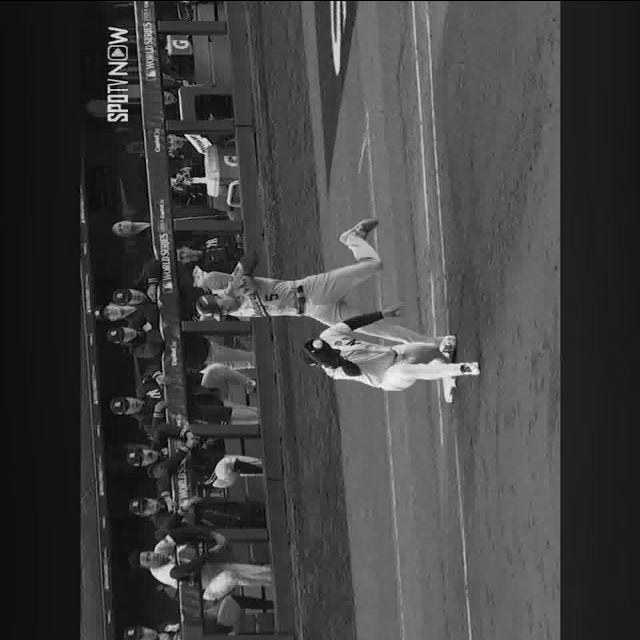base: (442, 376, 457, 402)
baseball: (312, 338, 327, 349)
baseball_glove: (300, 339, 342, 368)
shoe: (340, 217, 378, 242), (438, 334, 456, 356), (460, 360, 482, 375)
